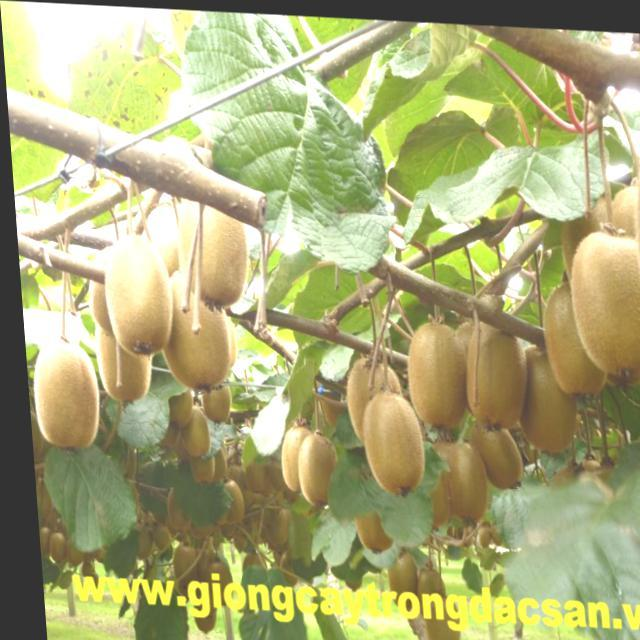kiwi: (563, 220, 640, 375), (174, 171, 248, 310), (99, 233, 171, 358), (156, 269, 228, 392), (537, 275, 606, 392), (26, 338, 96, 452), (456, 313, 525, 426), (509, 334, 575, 447), (400, 315, 465, 425), (88, 291, 148, 406), (354, 392, 420, 492), (556, 185, 618, 289), (80, 239, 141, 340), (340, 353, 399, 449), (606, 168, 640, 307), (463, 409, 517, 483), (408, 435, 450, 525), (347, 470, 389, 553), (438, 436, 481, 517), (290, 430, 334, 508), (272, 421, 313, 493), (627, 138, 640, 308), (378, 539, 408, 603), (158, 363, 188, 426), (415, 591, 452, 640), (408, 561, 440, 616), (175, 404, 205, 456), (162, 539, 191, 592), (195, 557, 228, 602), (195, 378, 229, 421), (253, 497, 283, 545), (159, 481, 184, 538), (210, 479, 239, 524), (181, 434, 208, 482), (183, 585, 209, 632), (194, 437, 221, 478), (126, 525, 147, 559), (57, 533, 76, 567), (40, 531, 60, 563), (143, 522, 163, 549), (32, 527, 46, 555)
